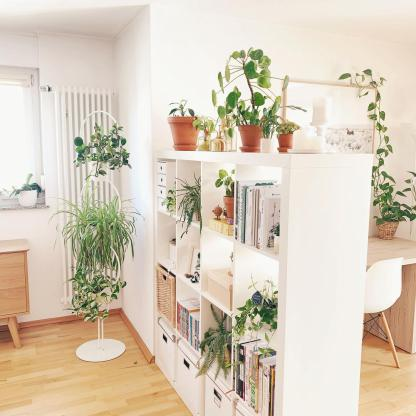lamp: (151, 148, 378, 416)
